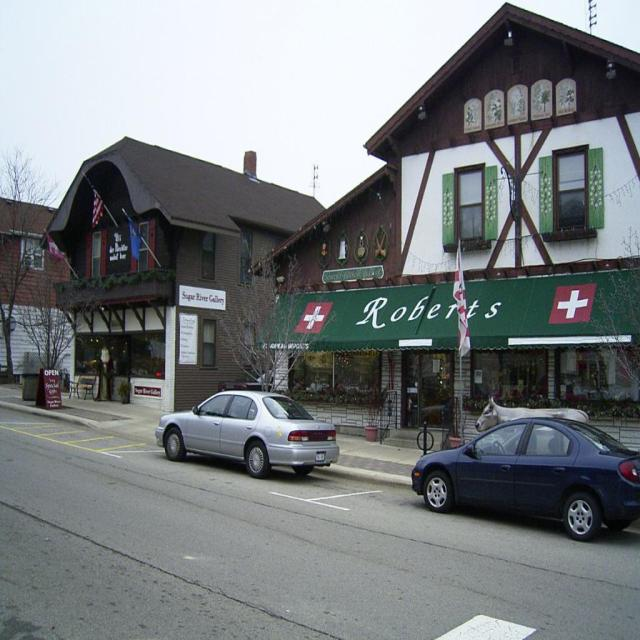car: (151, 387, 341, 481)
